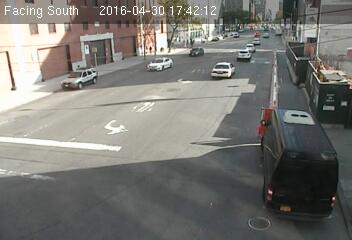neg: (276, 56, 290, 74)
pos: (146, 42, 154, 52)
